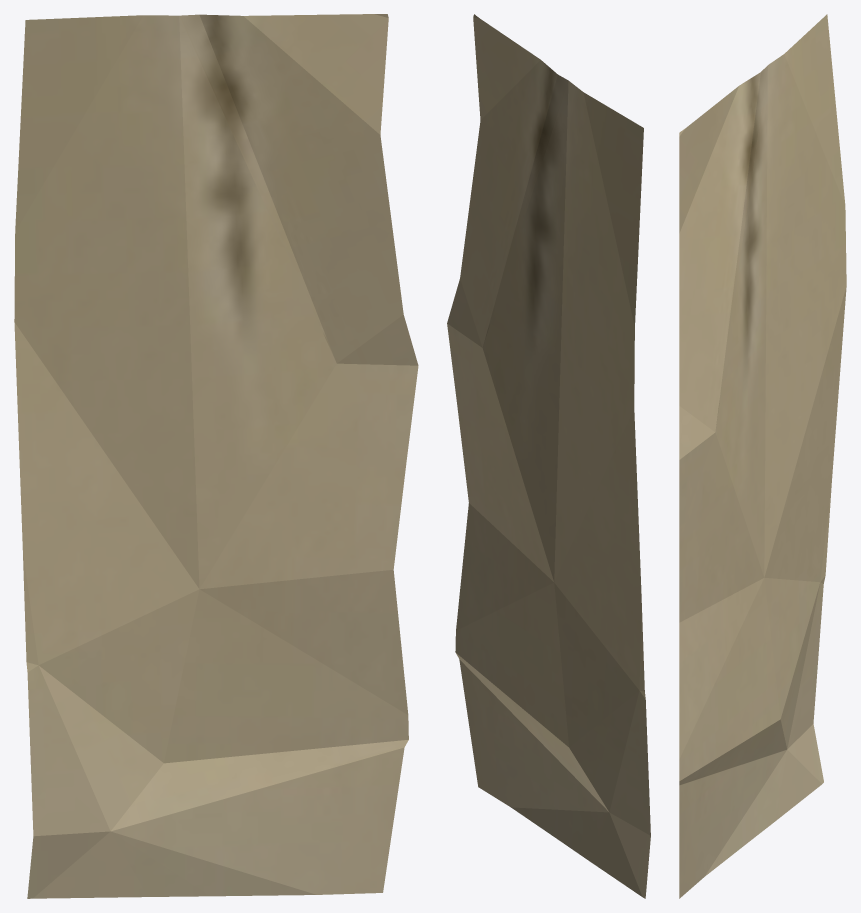
3 renders of one model, left to right at view 1: azimuth 30°, elevation 25°; view 2: azimuth 150°, elevation 25°; view 3: azimuth 270°, elevation 25°, orthographic. The views are drawn at different scales.
Bounding box in the file's own units: 0.308 × 0.8374 × 0.1653.
1 material, 1 textured.
